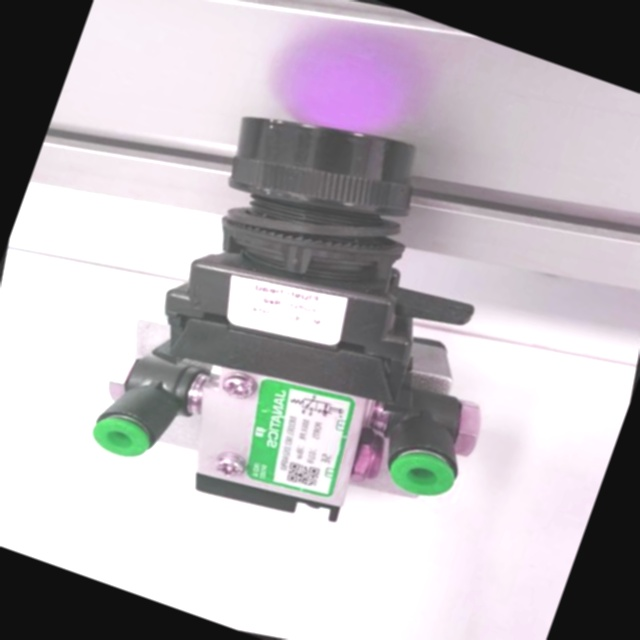push button: (26, 36, 588, 601)
